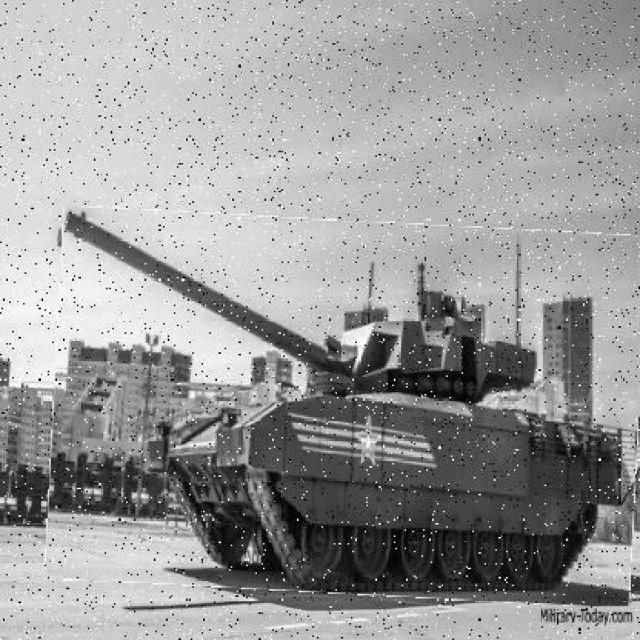Tank: (51, 215, 640, 602)
